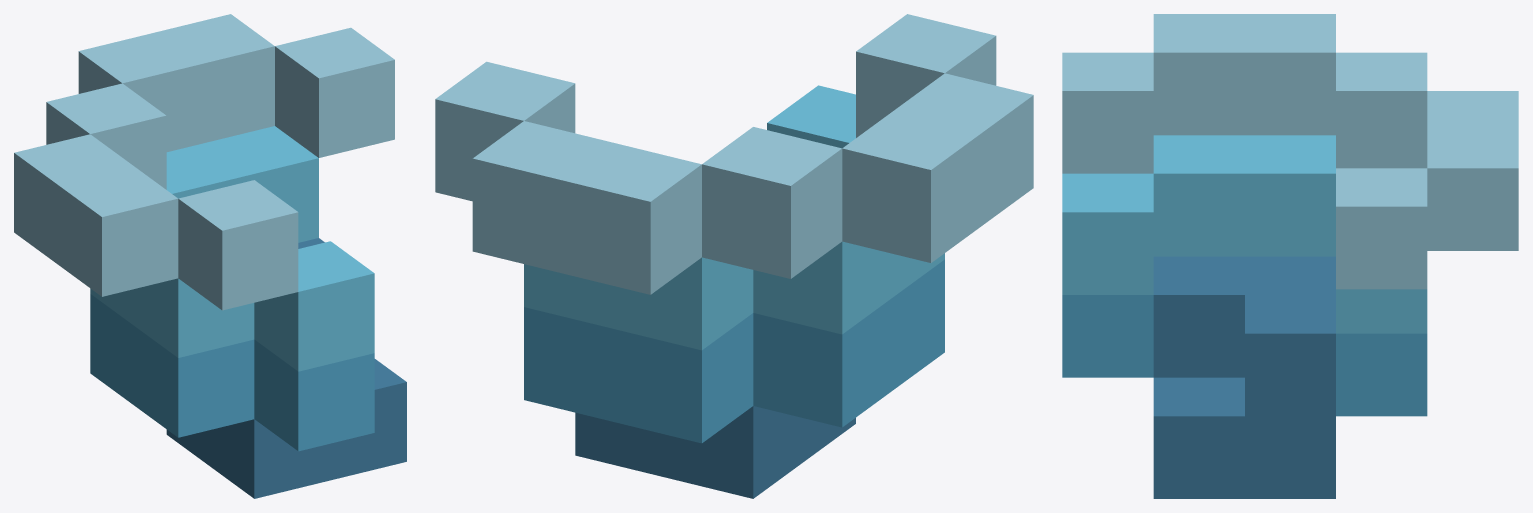
File: BlueTubularCoralSmall-0.obj
The picture shows the model from 3 angles, left to right: view 1: azimuth 30°, elevation 25°; view 2: azimuth 150°, elevation 25°; view 3: azimuth 270°, elevation 25°; orthographic projection. The views are drawn at different scales.
Bounding box in the file's own units: 0.5 × 0.4 × 0.5.
1 material, 1 textured.
